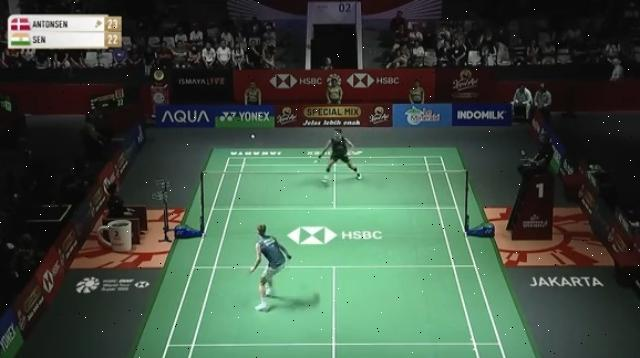Shuttlecock: (247, 132, 259, 140)
